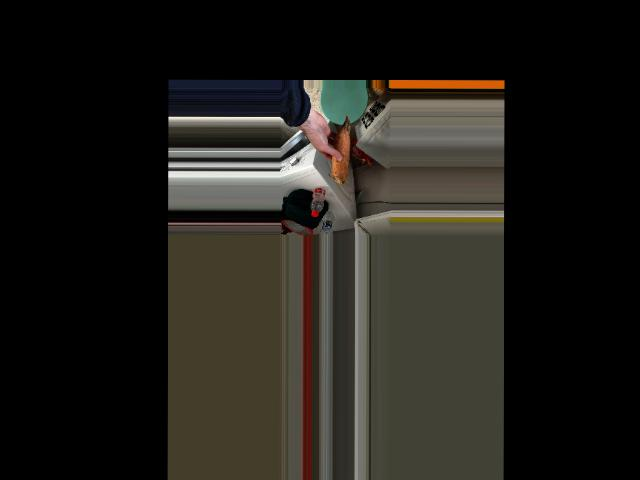sweet_potato: (329, 120, 349, 178)
